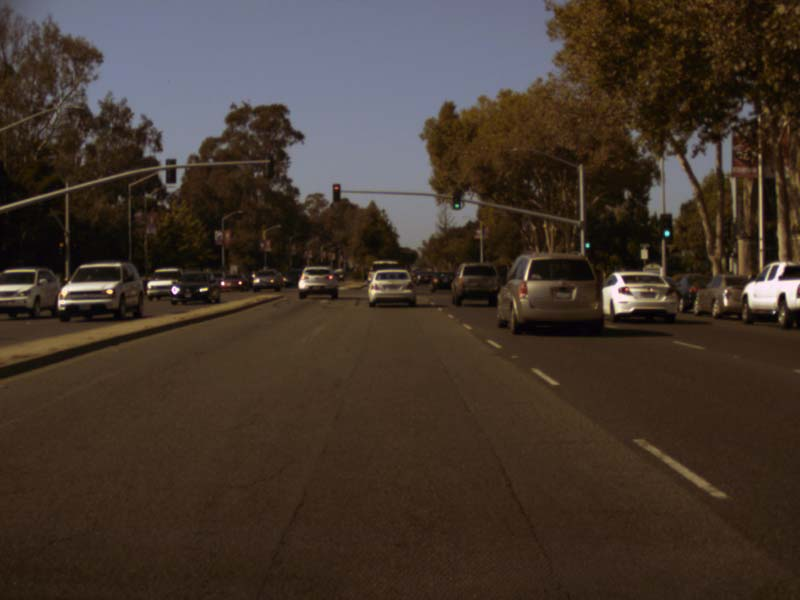Green: (660, 214, 673, 242), (584, 233, 592, 256), (453, 191, 460, 209)
Red: (332, 183, 341, 202), (58, 241, 64, 256)
